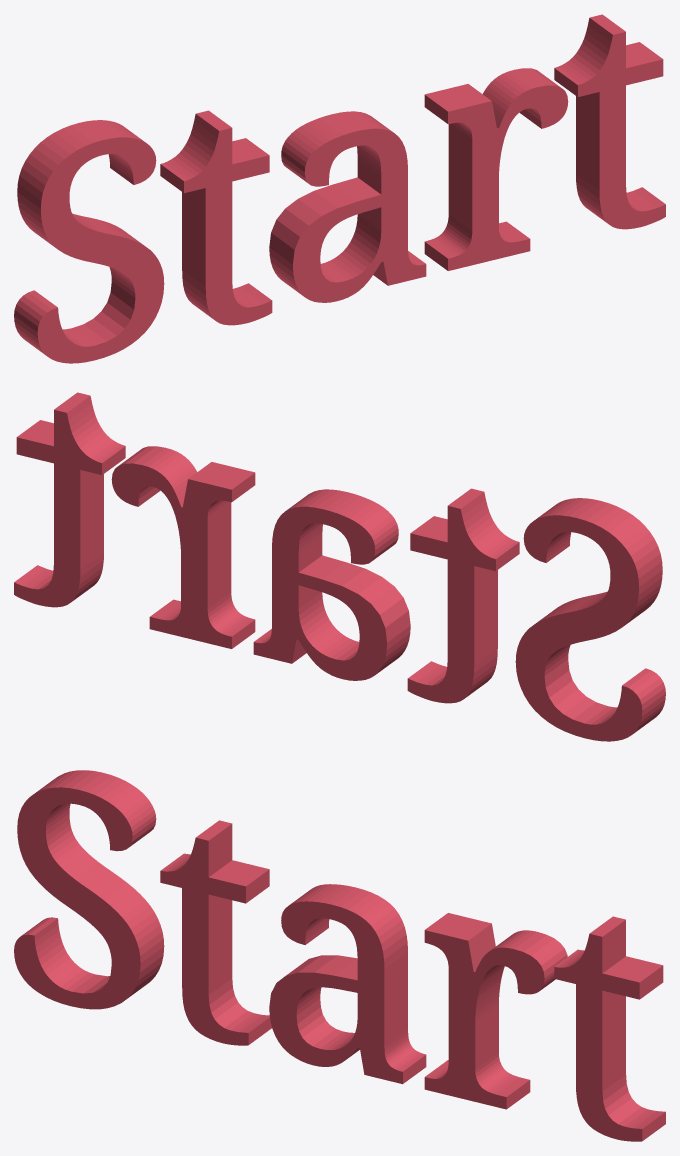
Rendered from Start.fbx.
3 renders of one model, top to bottom at view 1: azimuth 30°, elevation 25°; view 2: azimuth 150°, elevation 25°; view 3: azimuth 330°, elevation 25°, orthographic.
Parts seen in each view (by area): view 1: tinker3:group_0_15277357; view 2: tinker3:group_0_15277357; view 3: tinker3:group_0_15277357.
Part boxes in pixels (bbox=[...]): tinker3:group_0_15277357: bbox=[14, 14, 665, 363]; tinker3:group_0_15277357: bbox=[14, 392, 665, 741]; tinker3:group_0_15277357: bbox=[14, 770, 665, 1141].
Size of the model in its own units: 61.44 by 20.4 by 4.
